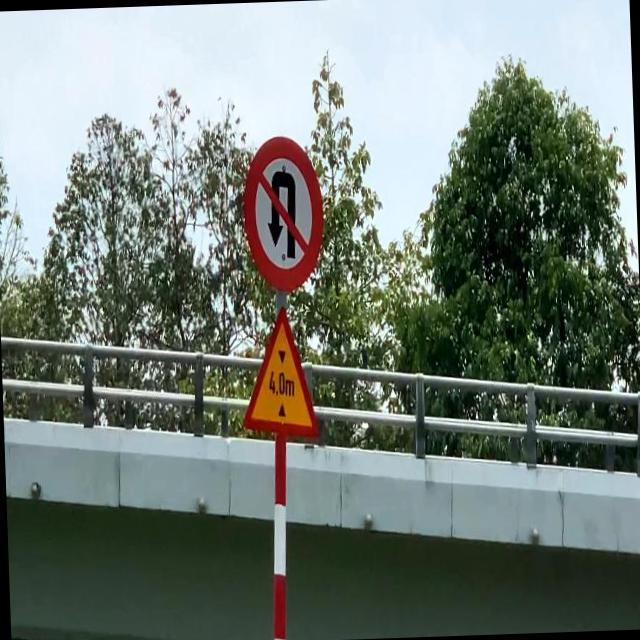P-124a1: (243, 134, 326, 294)
W-239b: (237, 303, 322, 442)
